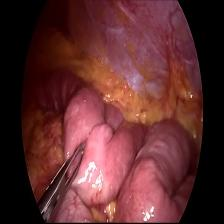Grasper: (36, 140, 88, 218)
